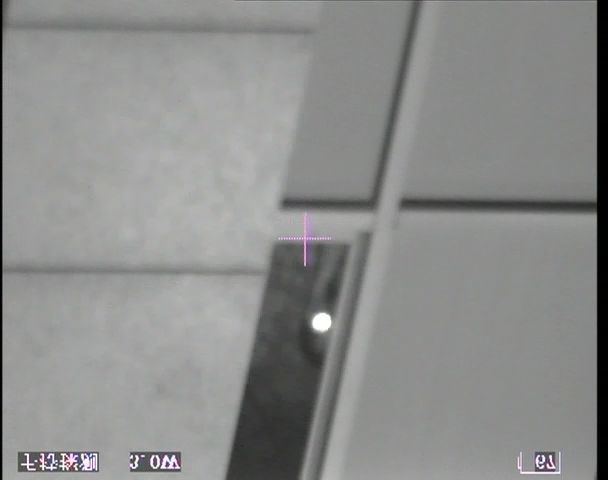my: (311, 311, 333, 333)
